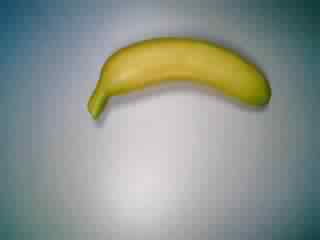banana: (84, 33, 276, 132)
